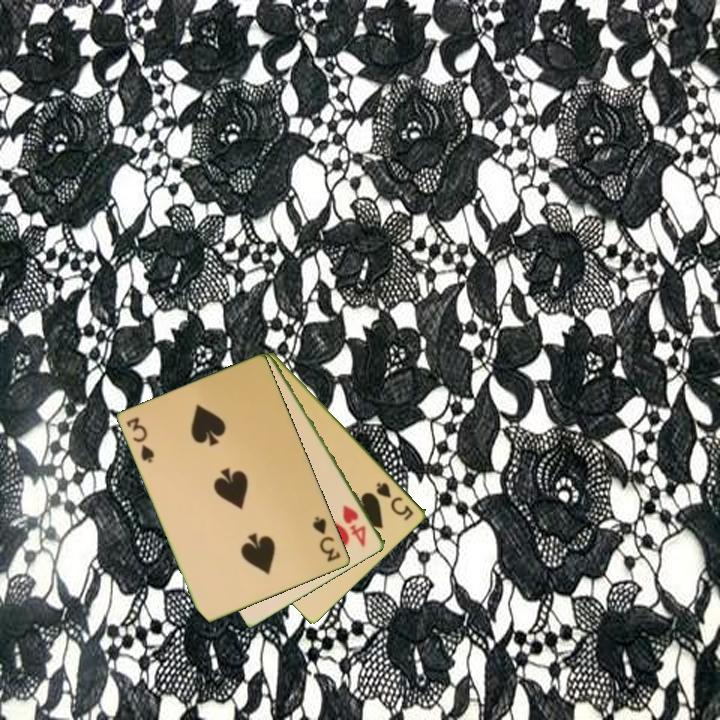3s: (123, 413, 158, 466), (309, 513, 344, 565)
4h: (339, 501, 369, 550)
5s: (373, 479, 417, 523)
